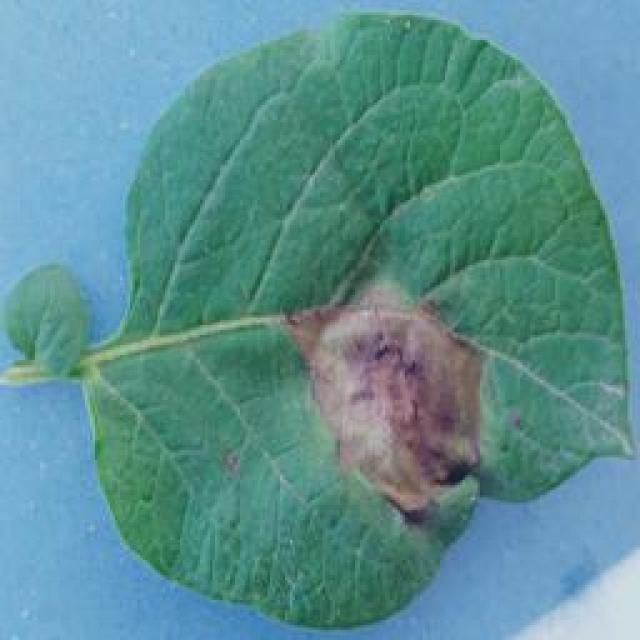Potato_Late_Blight: (74, 4, 640, 640)
